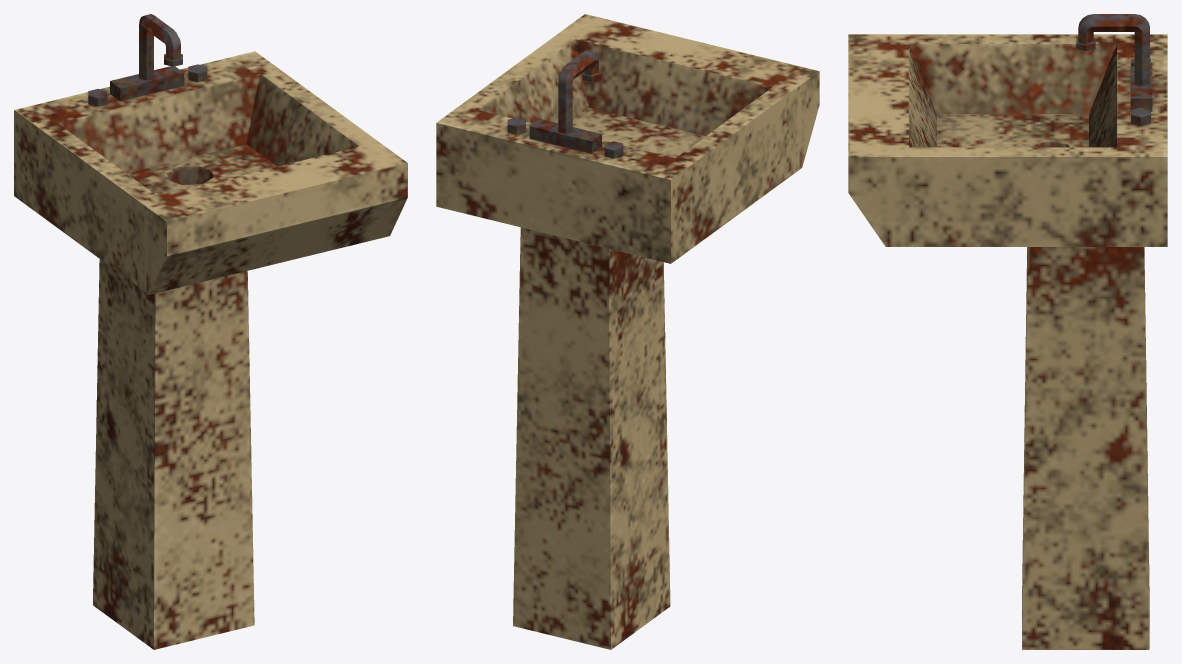
Rendered from sink.fbx.
3 renders of one model, left to right at view 1: azimuth 30°, elevation 25°; view 2: azimuth 150°, elevation 25°; view 3: azimuth 270°, elevation 25°, orthographic. The views are drawn at different scales.
Parts seen in each view (by area): view 1: sink; view 2: sink; view 3: sink.
Boxes of the visible parts, x1,y1,x2,y2 form: sink: [14, 14, 407, 649]; sink: [436, 14, 819, 649]; sink: [848, 14, 1167, 649].
Bounding box in the file's own units: 48.82 × 113 × 53.59.
1 material, 1 textured.
